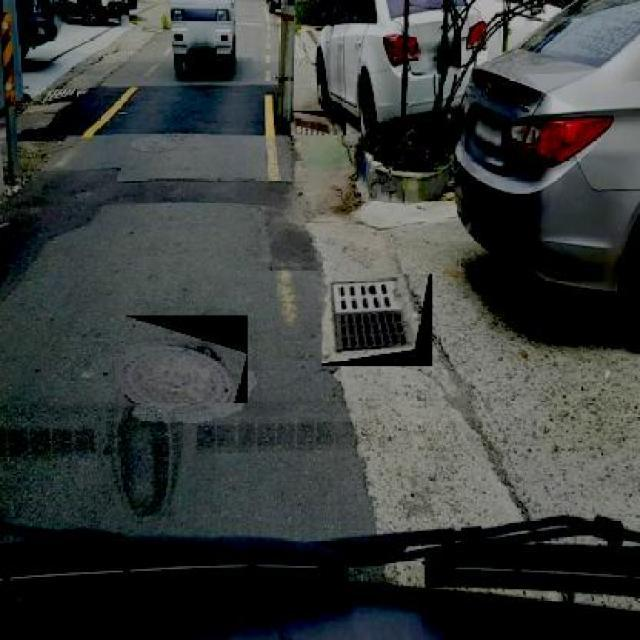Manhole: (125, 315, 248, 403), (322, 274, 432, 366), (290, 111, 346, 135), (47, 89, 78, 102)
